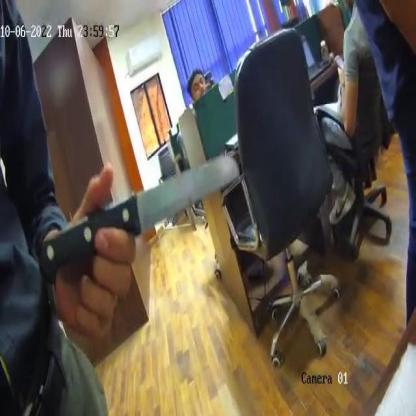Knife: (36, 148, 240, 278)
